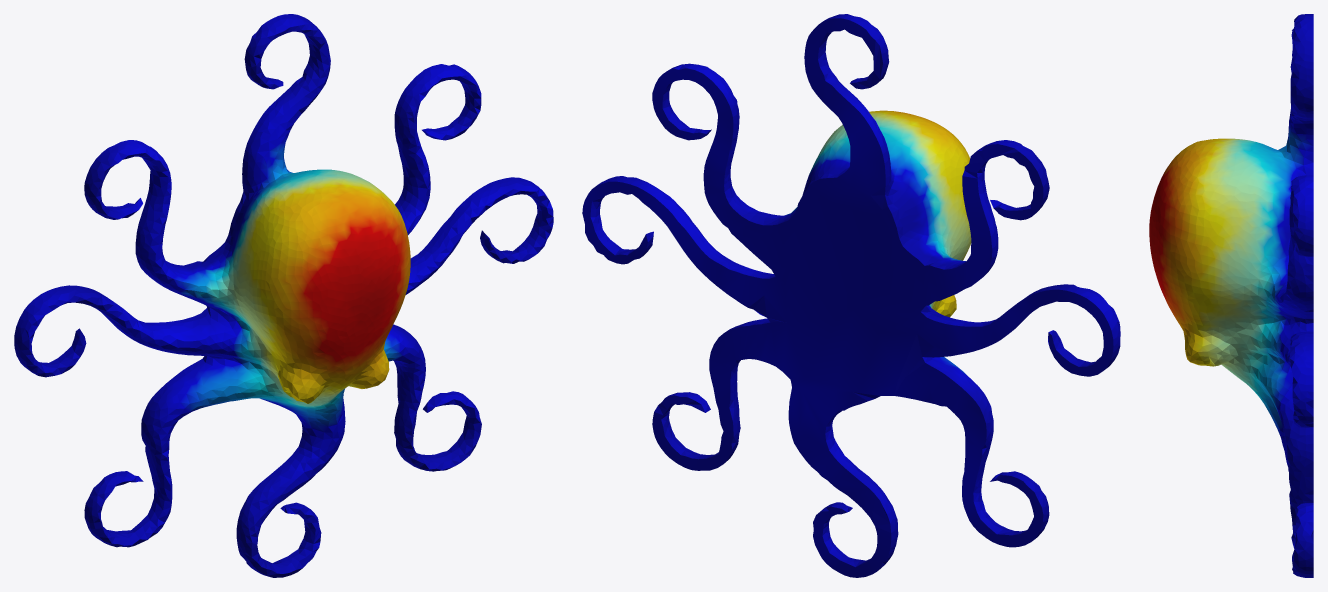
Rendered from octopus.glb.
The picture shows the model from 3 angles, left to right: view 1: azimuth 30°, elevation 25°; view 2: azimuth 150°, elevation 25°; view 3: azimuth 270°, elevation 25°; orthographic projection.
Parts seen in each view (by area): view 1: octopus_smooth.obj; view 2: octopus_smooth.obj; view 3: octopus_smooth.obj.
Boxes of the visible parts, x1,y1,x2,y2 form: octopus_smooth.obj: (14, 14, 553, 577); octopus_smooth.obj: (582, 14, 1120, 577); octopus_smooth.obj: (1149, 14, 1313, 577).
Size of the model in its own units: 1.92 by 1.92 by 0.5226.
